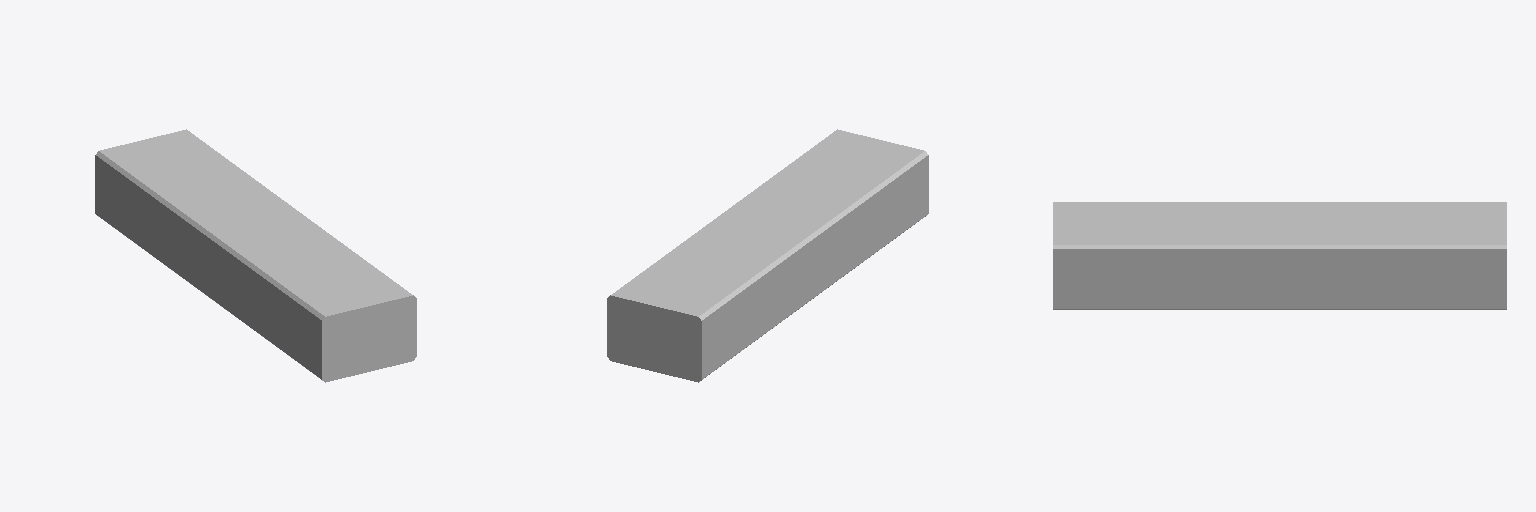
The model's file is factory_rectangular_peg_12mm_tight_subdiv_3x.obj.
The picture shows the model from 3 angles: view 1: azimuth 30°, elevation 25°; view 2: azimuth 150°, elevation 25°; view 3: azimuth 270°, elevation 25°; orthographic projection.
Parts seen in each view (by area): view 1: mesh2, mesh4, mesh5, mesh3; view 2: mesh2, mesh4, mesh6, mesh3; view 3: mesh0, mesh2, mesh1.
Part boxes in pixels (x1,y1,x2,y2): mesh2: (100, 129, 412, 316); mesh4: (95, 155, 321, 379); mesh5: (322, 295, 416, 382); mesh3: (96, 151, 324, 320); mesh2: (611, 129, 923, 316); mesh4: (702, 155, 928, 379); mesh6: (607, 295, 701, 382); mesh3: (699, 151, 927, 320); mesh0: (1053, 249, 1506, 308); mesh2: (1053, 202, 1506, 244); mesh1: (1053, 245, 1506, 248).
Size of the model in its own units: 0.012 by 0.008 by 0.05.